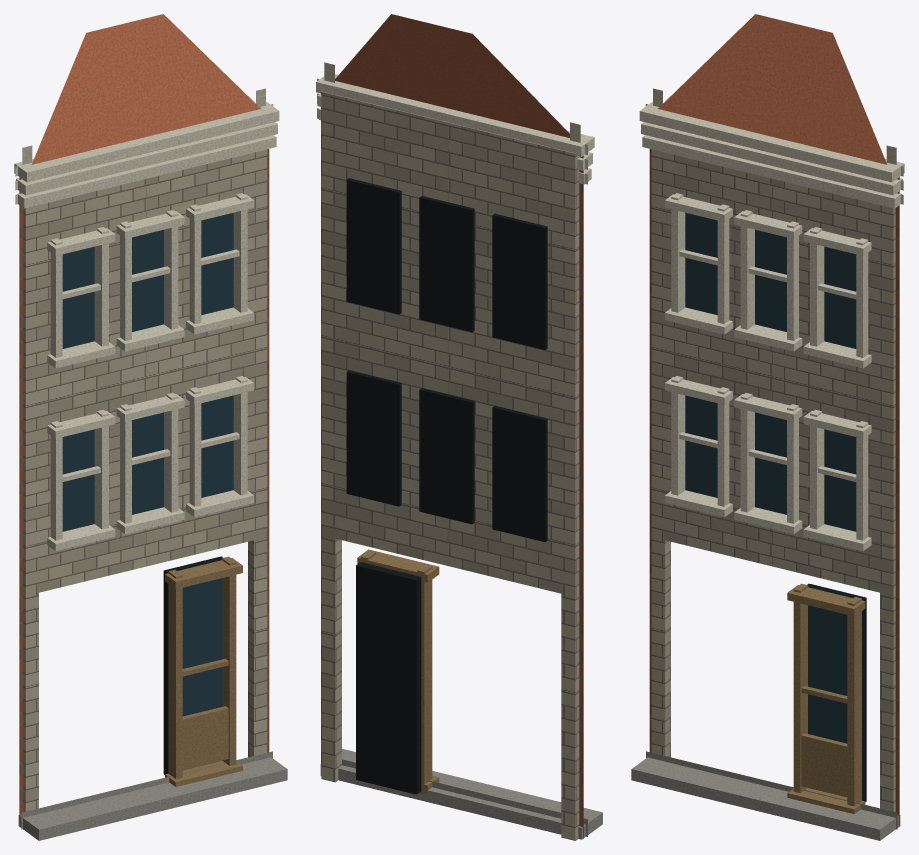
The model's file is VICT33_lod2.glb.
The picture shows the model from 3 angles, left to right: view 1: azimuth 30°, elevation 25°; view 2: azimuth 150°, elevation 25°; view 3: azimuth 330°, elevation 25°; orthographic projection. The views are drawn at different scales.
Visible parts, largest first — view 1: VICT33_FRONT_LOD2; view 2: VICT33_FRONT_LOD2; view 3: VICT33_FRONT_LOD2.
Part boxes in pixels (x1,y1,x2,y2): VICT33_FRONT_LOD2: (14,14,287,840); VICT33_FRONT_LOD2: (316,14,602,840); VICT33_FRONT_LOD2: (631,14,904,840).
Bounding box in the file's own units: 3.84 × 10.8 × 0.99.
Materials: 10 (8 with a texture image).
